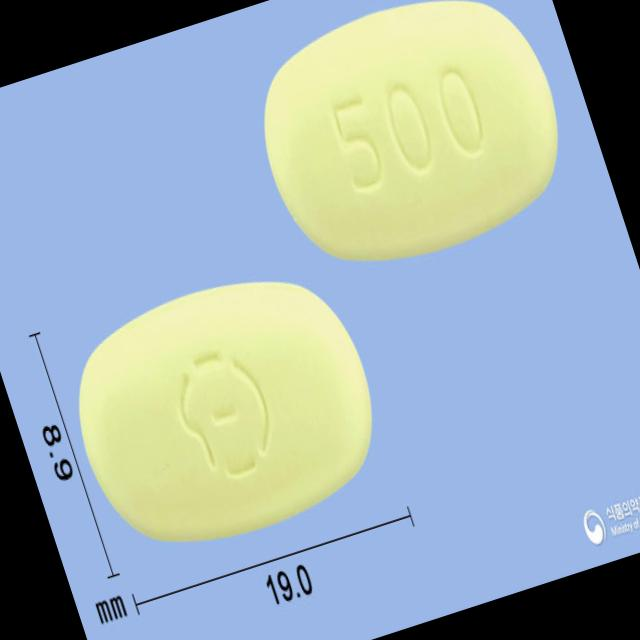Clarione: (42, 239, 407, 581), (228, 0, 596, 305)
